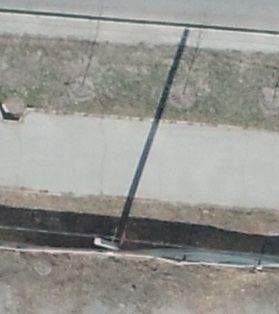opora: (92, 198, 138, 251)
